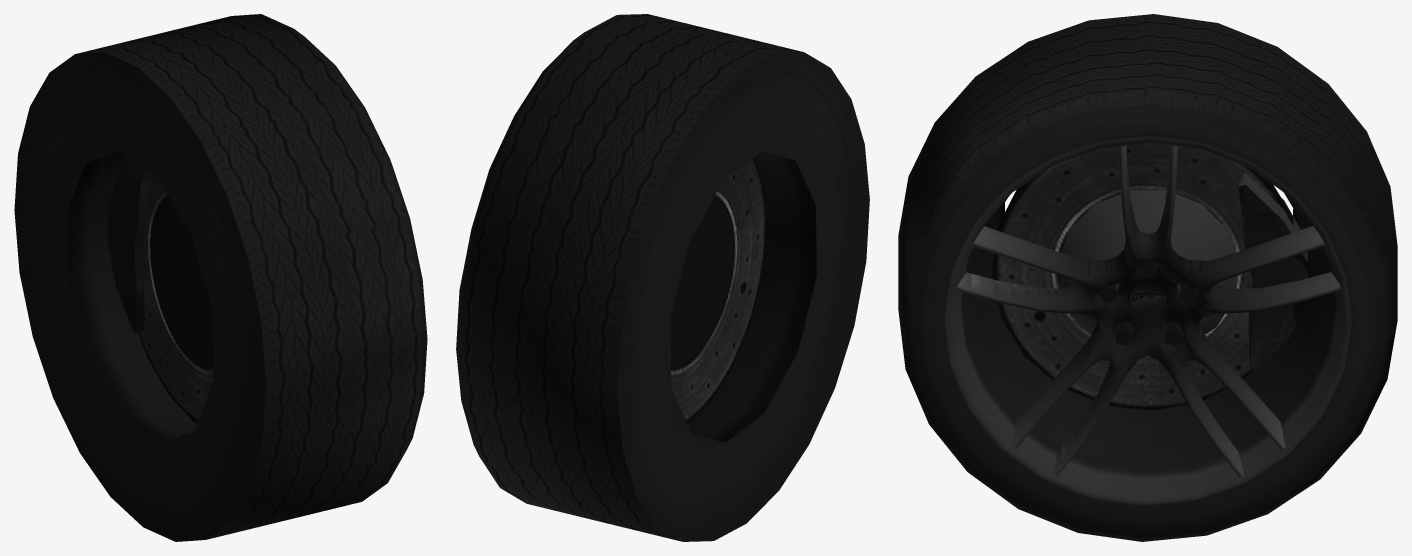
Rendered from WP12_wheelpack.glb.
The picture shows the model from 3 angles, left to right: view 1: azimuth 30°, elevation 25°; view 2: azimuth 150°, elevation 25°; view 3: azimuth 270°, elevation 25°; orthographic projection.
Visible parts, largest first — view 1: MOD_ND_WP12_tyre, MOD_ND_WP12_brakes, MOD_ND_WP12_rim; view 2: MOD_ND_WP12_tyre, MOD_ND_WP12_brakes, MOD_ND_WP12_rim; view 3: MOD_ND_WP12_tyre, MOD_ND_WP12_rim, MOD_ND_WP12_brakes.
Part boxes in pixels (x1,y1,x2,y2): MOD_ND_WP12_tyre: [14, 14, 427, 541]; MOD_ND_WP12_brakes: [107, 158, 213, 423]; MOD_ND_WP12_rim: [67, 150, 197, 442]; MOD_ND_WP12_tyre: [456, 14, 869, 541]; MOD_ND_WP12_brakes: [670, 156, 767, 423]; MOD_ND_WP12_rim: [687, 151, 816, 442]; MOD_ND_WP12_tyre: [898, 14, 1397, 541]; MOD_ND_WP12_rim: [945, 136, 1351, 504]; MOD_ND_WP12_brakes: [992, 142, 1307, 410].
Size of the model in its own units: 0.2465 by 0.6414 by 0.6414.
Materials: 2 (2 with a texture image).
